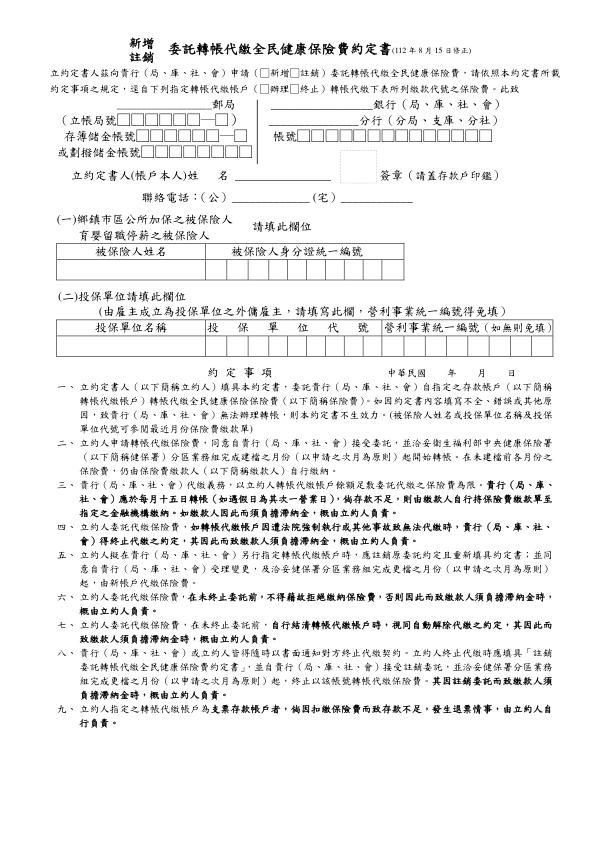check_box: (290, 62, 300, 80), (257, 65, 270, 77), (290, 81, 300, 96), (259, 81, 269, 95)
input: (296, 127, 497, 144), (139, 142, 254, 159), (136, 126, 249, 142), (233, 166, 333, 182), (116, 112, 229, 125), (231, 187, 311, 205), (116, 97, 209, 112), (339, 190, 414, 207), (268, 114, 358, 127), (271, 101, 374, 112)
table: (54, 317, 557, 359), (55, 241, 409, 282)
text: (51, 646, 558, 701), (56, 379, 557, 434), (54, 478, 562, 519), (47, 547, 555, 588), (55, 436, 559, 475), (51, 701, 558, 732), (51, 618, 562, 646), (49, 590, 555, 617), (53, 520, 558, 547), (125, 31, 475, 66), (97, 302, 507, 317), (54, 211, 236, 240), (47, 64, 251, 80), (327, 80, 523, 96), (329, 67, 566, 79), (47, 82, 249, 95), (69, 168, 229, 181), (373, 97, 504, 112), (380, 168, 502, 184), (359, 114, 499, 127), (51, 290, 188, 301), (138, 189, 227, 205), (202, 362, 275, 379), (63, 129, 138, 144), (55, 146, 140, 158), (250, 218, 314, 233), (382, 364, 427, 380), (67, 113, 116, 125), (311, 188, 337, 206), (269, 129, 298, 142), (209, 96, 235, 110), (270, 81, 290, 97), (269, 64, 290, 79), (301, 65, 321, 80), (299, 82, 320, 96), (445, 364, 458, 380), (475, 366, 489, 379), (506, 367, 521, 379)
